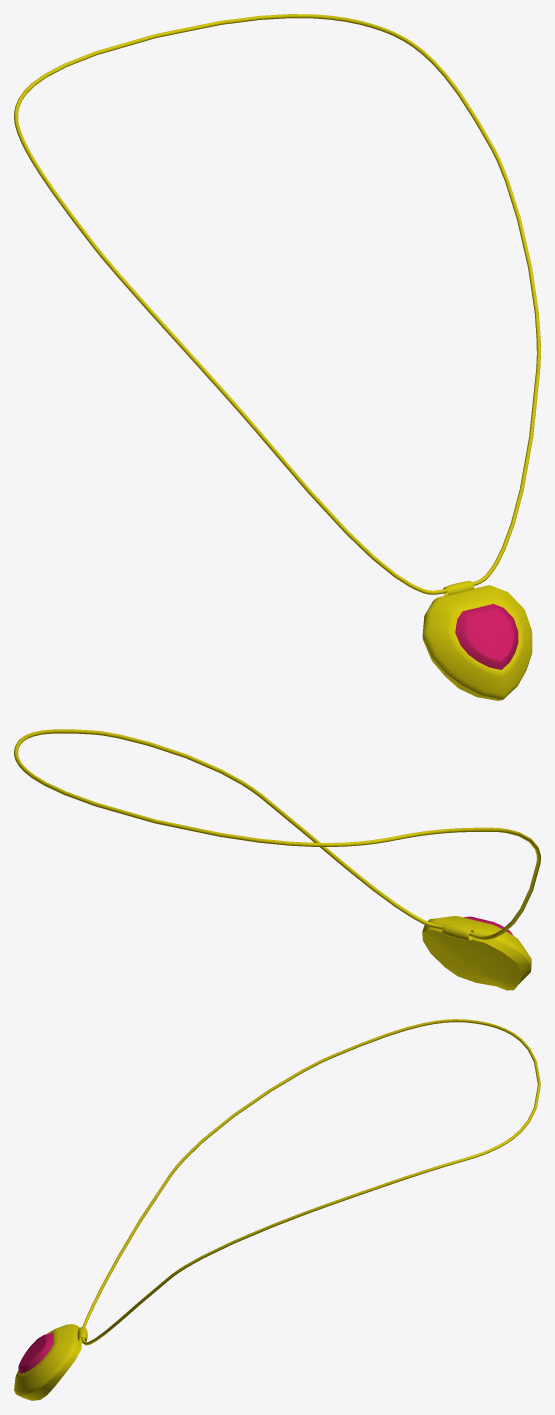
Rendered from heartnecklace.glb.
3 renders of one model, top to bottom at view 1: azimuth 30°, elevation 25°; view 2: azimuth 150°, elevation 25°; view 3: azimuth 270°, elevation 25°, orthographic. The views are drawn at different scales.
Visible parts, largest first — view 1: Object_2, Object_4, Object_3; view 2: Object_2, Object_4, Object_5; view 3: Object_2, Object_4, Object_3.
Part boxes in pixels (box(x1,y1,x2,y2)): Object_2: box(14, 14, 540, 594); Object_4: box(422, 585, 532, 700); Object_3: box(455, 604, 518, 669); Object_2: box(14, 729, 540, 939); Object_4: box(422, 916, 531, 990); Object_5: box(442, 923, 473, 940); Object_2: box(81, 1019, 540, 1345); Object_4: box(14, 1324, 81, 1400); Object_3: box(18, 1333, 53, 1373).
Bounding box in the file's own units: 0.0557 × 0.0543 × 0.0823.
